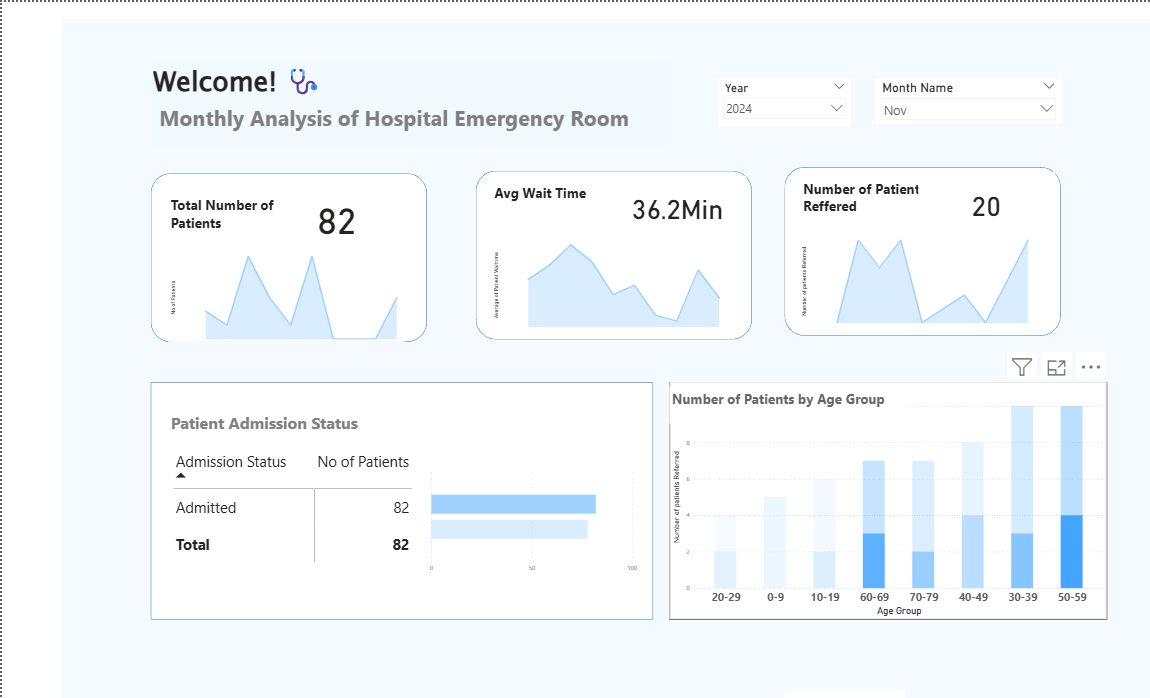

Layout of this report page (visuals, bound fields, positions):
{"tool":"powerbi","page":{"name":"Page 1","canvas":[2300,1400],"ordinal":0},"visuals":[{"type":"shape","box":[297.5,760,1005,475],"z":0},{"type":"shape","box":[297.5,342.5,552.5,337.5],"z":1000},{"type":"shape","box":[0,0,120,1402.5],"z":2000},{"type":"shape","box":[120,0,2180,35],"z":3000},{"type":"textbox","box":[297.5,115,1037.5,172.5],"z":4000},{"type":"card","fields":{"Values":["Hospital ER_Data.No of Patients"]},"box":[575,382.5,190,92.5],"z":5000},{"type":"slicer","fields":{"Values":["Date Table.Year"]},"box":[1432.5,152.5,265,97.5],"z":6000},{"type":"slicer","fields":{"Values":["Date Table.Month Name"]},"box":[1747.5,152.5,370,90],"z":7000},{"type":"textbox","box":[332.5,382.5,267.5,80],"z":8000},{"type":"areaChart","fields":{"Category":["Date Table.Date.Variation.Date Hierarchy.Day"],"Y":["Hospital ER_Data.No of Patients"]},"box":[332.5,495,472.5,185],"z":9000},{"type":"shape","box":[948.5,338.5,552.5,337.5],"z":10000},{"type":"textbox","box":[980.5,358.5,267.5,80],"z":11000},{"type":"card","fields":{"Values":["Hospital ER_Data.Avg Wait Time"]},"box":[1216,348.5,272.5,122.5],"z":12000},{"type":"areaChart","fields":{"Category":["Date Table.Date.Variation.Date Hierarchy.Day"],"Y":["Avg(Hospital ER_Data.Patient Waittime)"]},"box":[978.5,471,472.5,185],"z":13000},{"type":"shape","box":[1564.5,330.5,552.5,337.5],"z":14000},{"type":"textbox","box":[1596.5,350.5,267.5,80],"z":15000},{"type":"card","fields":{"Values":["Hospital ER_Data.Number of patients Referred"]},"box":[1832,340.5,272.5,122.5],"z":16000},{"type":"areaChart","fields":{"Category":["Date Table.Date.Variation.Date Hierarchy.Day"],"Y":["Hospital ER_Data.Number of patients Referred"]},"box":[1594.5,463,472.5,185],"z":17000},{"type":"pivotTable","fields":{"Rows":["Hospital ER_Data.Admission Status"],"Values":["Hospital ER_Data.No of Patients"]},"box":[332.5,870,615,337.5],"z":18000},{"type":"textbox","box":[332.5,815,432.5,55],"z":20000},{"type":"barChart","fields":{"Y":["Hospital ER_Data.No of Patients"],"Category":["Hospital ER_Data.Admission Status"]},"box":[850,927.5,425,222.5],"z":21000},{"type":"columnChart","fields":{"Category":["Hospital ER_Data.Age Group"],"Y":["Hospital ER_Data.Number of patients Referred"]},"box":[1335,760,875,475],"z":22000},{"type":"qnaVisual","box":[1565,1377.5,240,22.5],"z":23000},{"type":"textbox","box":[1335,770,470,72.5],"z":25000}]}

Visuals, with their boxes in screenshot pixels (x1, y1, x2, y2), scaled from the page's 2300x1400 canvas onto the 1150x698 screenshot:
shape: {"left": 149, "top": 379, "right": 651, "bottom": 616}
shape: {"left": 149, "top": 171, "right": 425, "bottom": 339}
shape: {"left": 0, "top": 0, "right": 60, "bottom": 697}
shape: {"left": 60, "top": 0, "right": 1149, "bottom": 17}
textbox: {"left": 149, "top": 57, "right": 668, "bottom": 143}
card - Hospital ER_Data.No of Patients: {"left": 288, "top": 191, "right": 382, "bottom": 237}
slicer - Date Table.Year: {"left": 716, "top": 76, "right": 849, "bottom": 125}
slicer - Date Table.Month Name: {"left": 874, "top": 76, "right": 1059, "bottom": 121}
textbox: {"left": 166, "top": 191, "right": 300, "bottom": 231}
areaChart - Date Table.Date.Variation.Date Hierarchy.Day x Hospital ER_Data.No of Patients: {"left": 166, "top": 247, "right": 402, "bottom": 339}
shape: {"left": 474, "top": 169, "right": 750, "bottom": 337}
textbox: {"left": 490, "top": 179, "right": 624, "bottom": 219}
card - Hospital ER_Data.Avg Wait Time: {"left": 608, "top": 174, "right": 744, "bottom": 235}
areaChart - Date Table.Date.Variation.Date Hierarchy.Day x Avg(Hospital ER_Data.Patient Waittime): {"left": 489, "top": 235, "right": 726, "bottom": 327}
shape: {"left": 782, "top": 165, "right": 1058, "bottom": 333}
textbox: {"left": 798, "top": 175, "right": 932, "bottom": 215}
card - Hospital ER_Data.Number of patients Referred: {"left": 916, "top": 170, "right": 1052, "bottom": 231}
areaChart - Date Table.Date.Variation.Date Hierarchy.Day x Hospital ER_Data.Number of patients Referred: {"left": 797, "top": 231, "right": 1034, "bottom": 323}
pivotTable - Hospital ER_Data.Admission Status x Hospital ER_Data.No of Patients: {"left": 166, "top": 434, "right": 474, "bottom": 602}
textbox: {"left": 166, "top": 406, "right": 382, "bottom": 434}
barChart - Hospital ER_Data.No of Patients x Hospital ER_Data.Admission Status: {"left": 425, "top": 462, "right": 638, "bottom": 573}
columnChart - Hospital ER_Data.Age Group x Hospital ER_Data.Number of patients Referred: {"left": 668, "top": 379, "right": 1105, "bottom": 616}
qnaVisual: {"left": 782, "top": 687, "right": 902, "bottom": 697}
textbox: {"left": 668, "top": 384, "right": 902, "bottom": 420}
